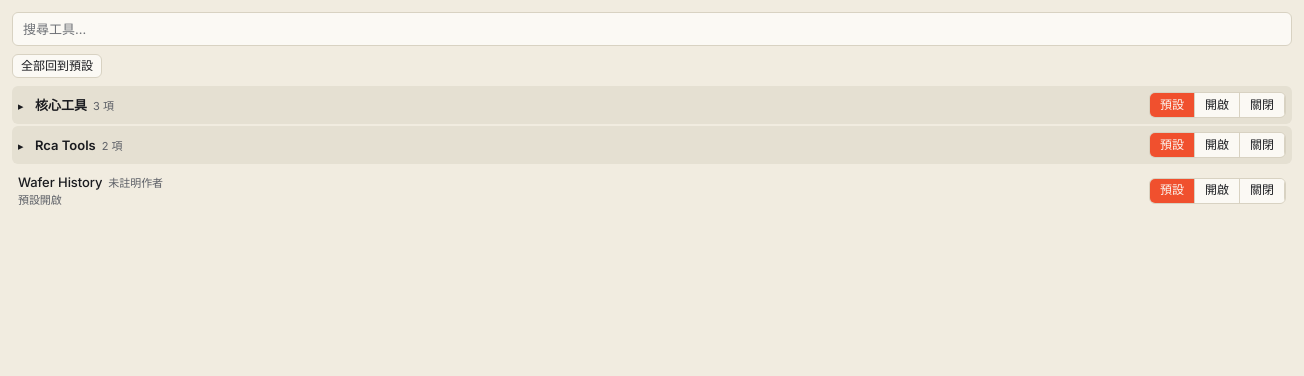
Test case: ToolsChecklist folds — rules pinned after review › a new search term overrides a fold the reader had closed by hand
Click the button with test id "tool-group-header-builtin". click: (61, 105)
box: [18,95,1139,115]
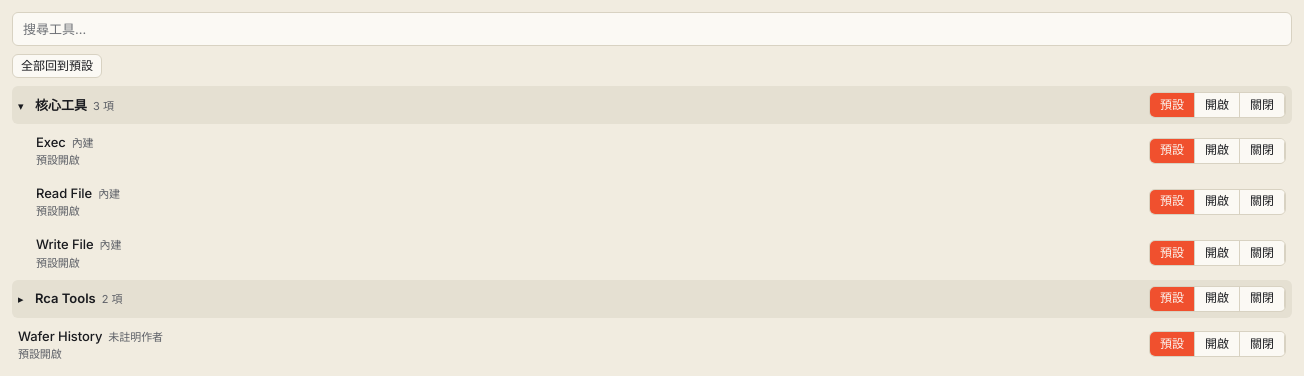
Click the button with test id "tool-group-header-builtin". click: (61, 105)
box: [18,95,1139,115]
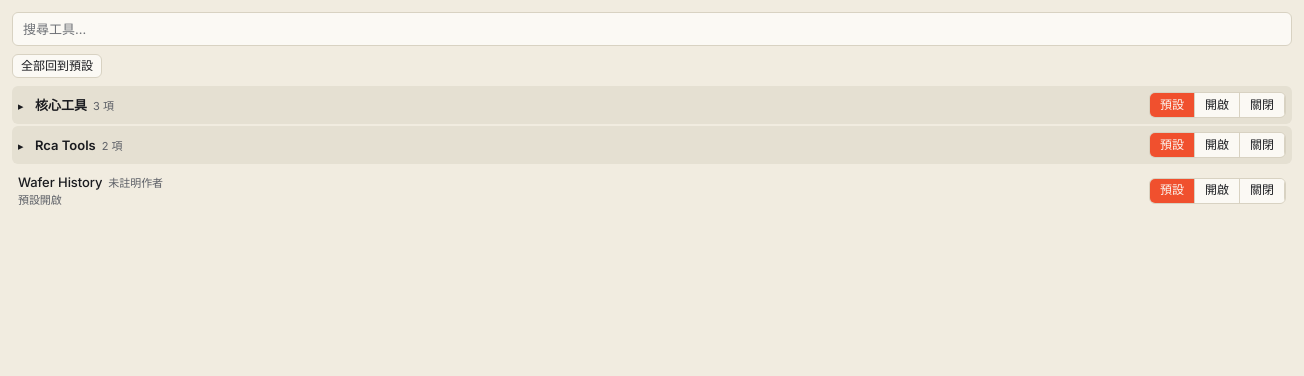
Type "read" into the field with test id "tools-search". click: (652, 29)
box: [12,12,1292,46]
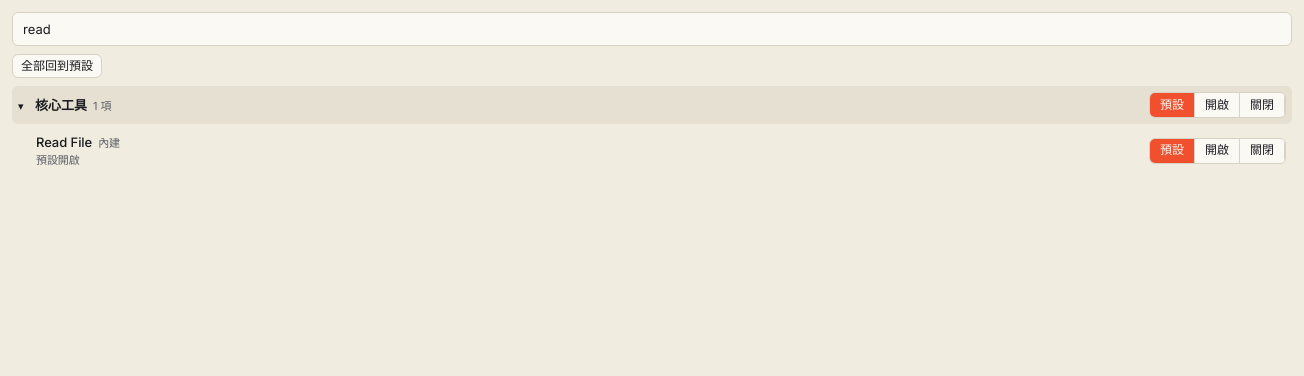
Check: the element with test id "tool-row-read_file" is shown, box [12,126,1292,175]
Check: the button with test id "tool-group-header-builtin" is expanded, box [18,95,1139,115]
